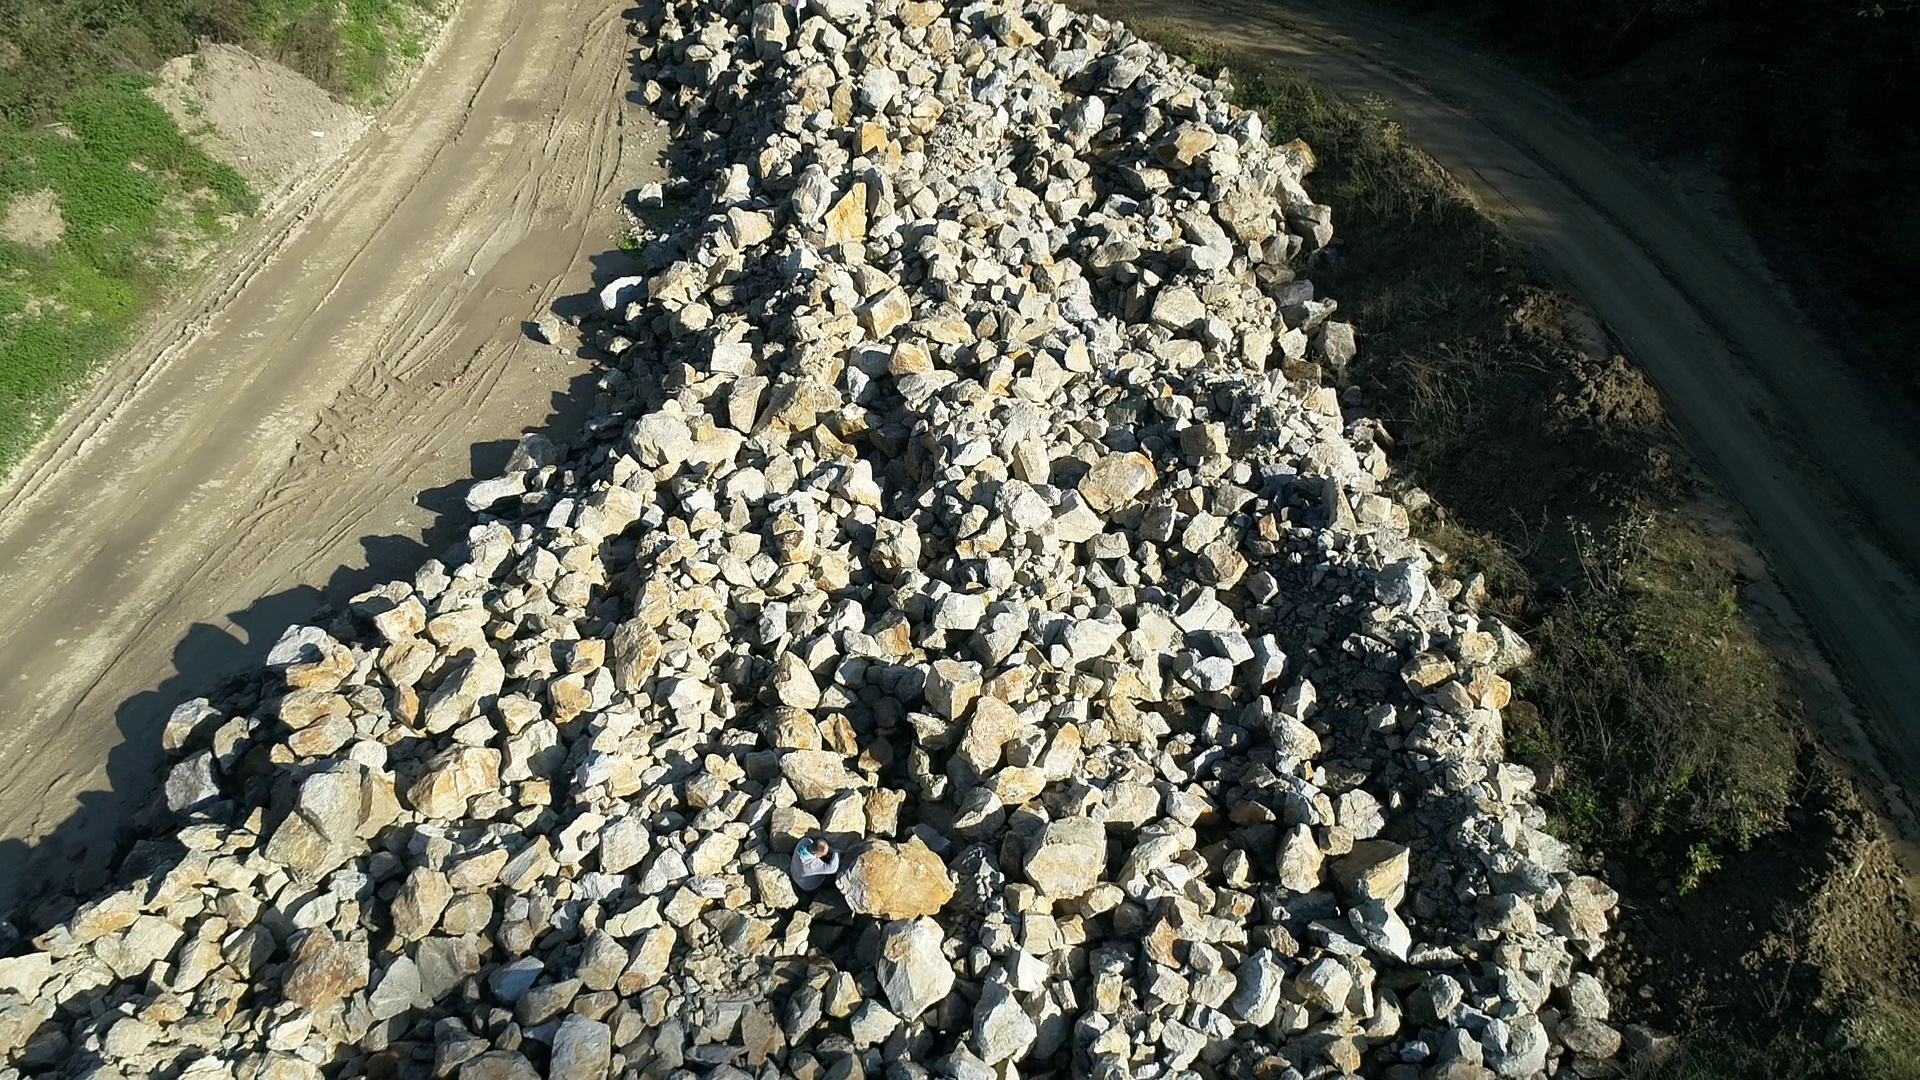not_defined: (792, 1, 807, 32)
person: (789, 835, 847, 898)
